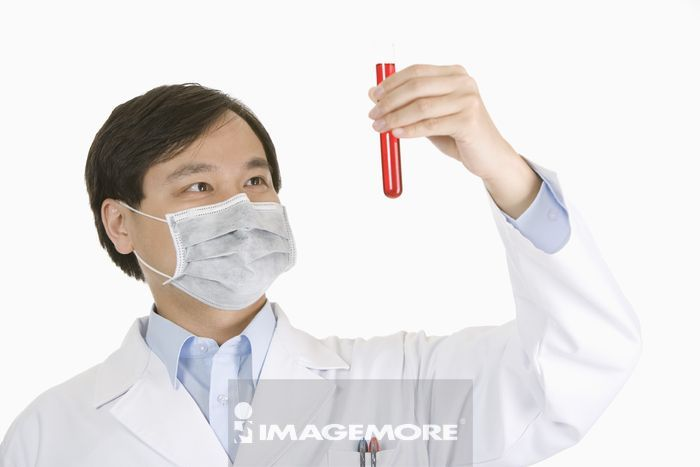mask: (163, 193, 295, 309)
